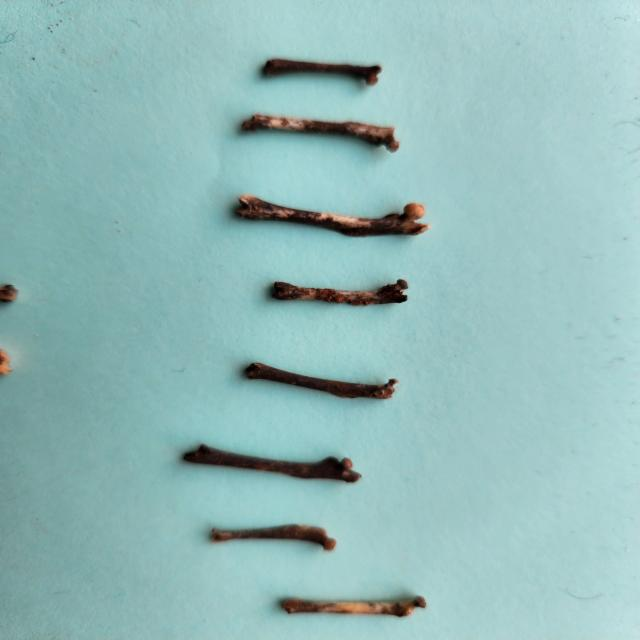fossil: (219, 188, 446, 246), (168, 435, 376, 490), (234, 354, 406, 411), (230, 104, 411, 157), (252, 273, 421, 316), (271, 586, 438, 626), (251, 50, 395, 92), (202, 515, 348, 554), (0, 280, 28, 311), (0, 346, 19, 381)
